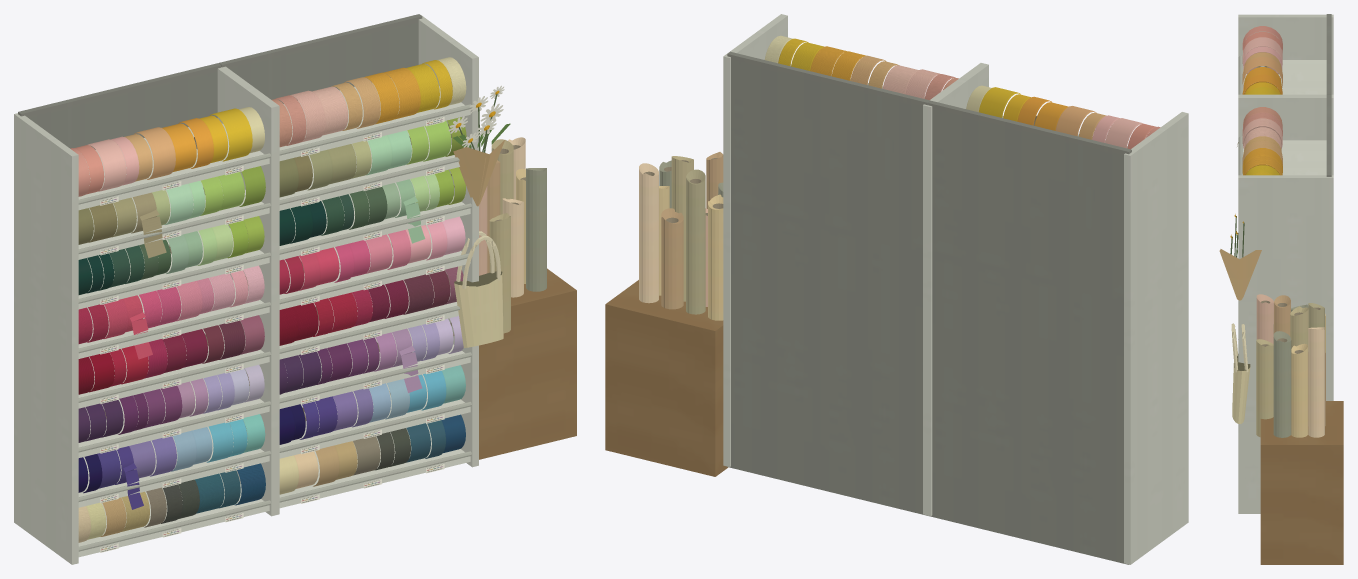
File: ribbon.glb
The picture shows the model from 3 angles, left to right: view 1: azimuth 30°, elevation 25°; view 2: azimuth 150°, elevation 25°; view 3: azimuth 270°, elevation 25°; orthographic projection. The views are drawn at different scales.
Parts seen in each view (by area): view 1: FloristRibbonReels; view 2: FloristRibbonReels; view 3: FloristRibbonReels.
Part boxes in pixels (x1,y1,x2,y2): FloristRibbonReels: (14, 14, 576, 564); FloristRibbonReels: (605, 14, 1188, 564); FloristRibbonReels: (1219, 14, 1343, 564).
Size of the model in its own units: 2.74 by 2.11 by 0.701.
Materials: 1 (1 with a texture image).
